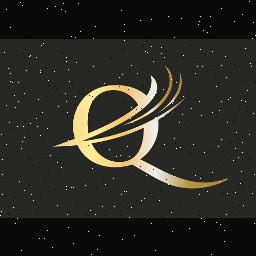q: (44, 55, 232, 195)
